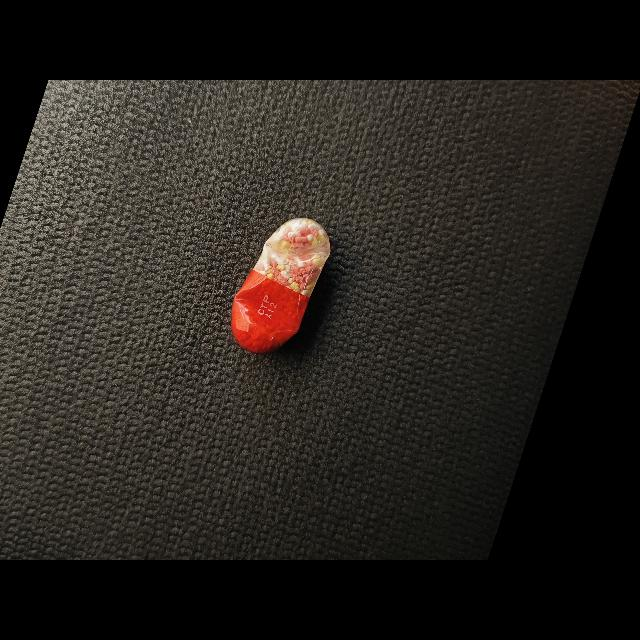Defective Capsule: (231, 218, 331, 354)
